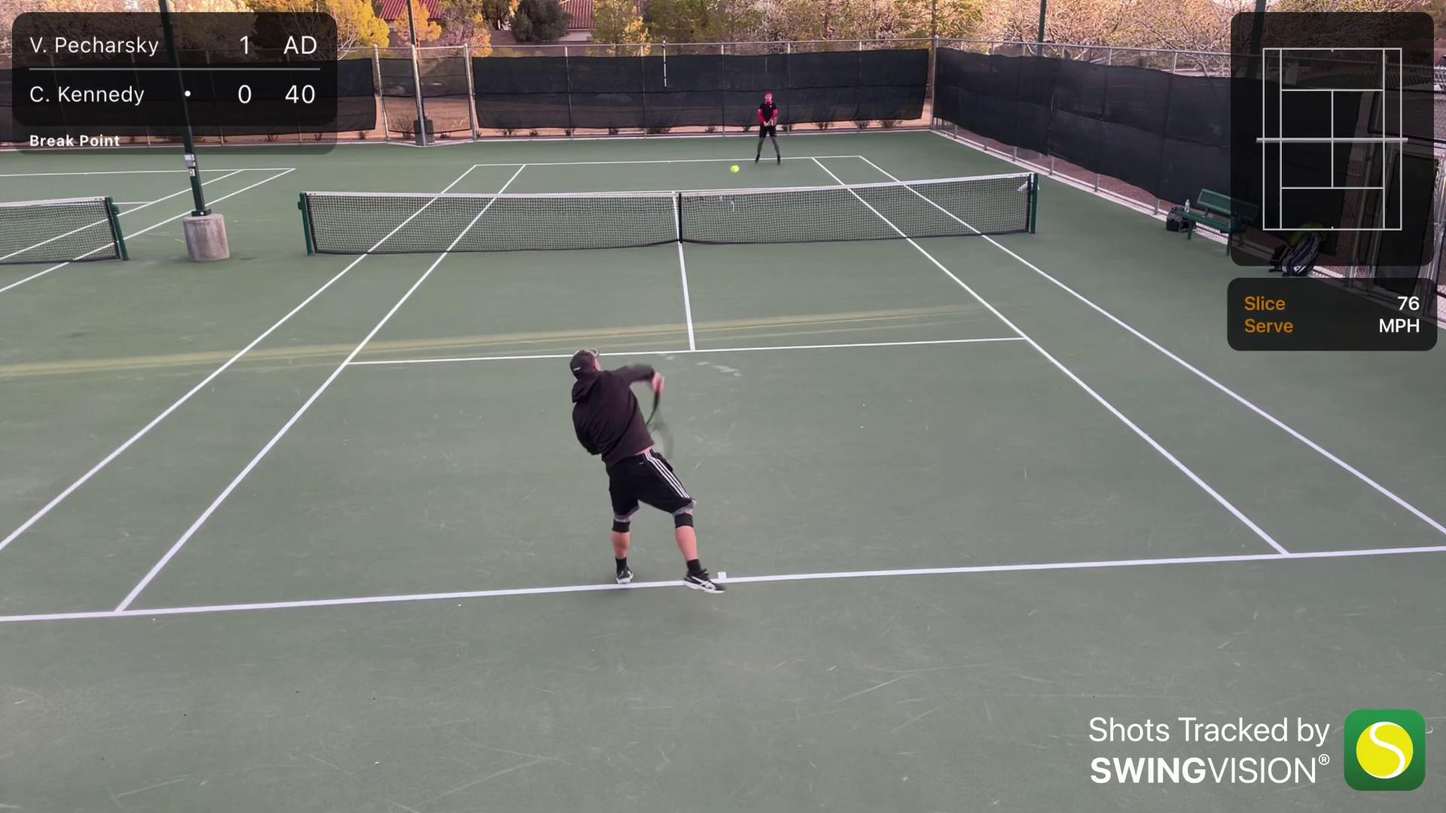ball: (729, 164, 742, 173)
